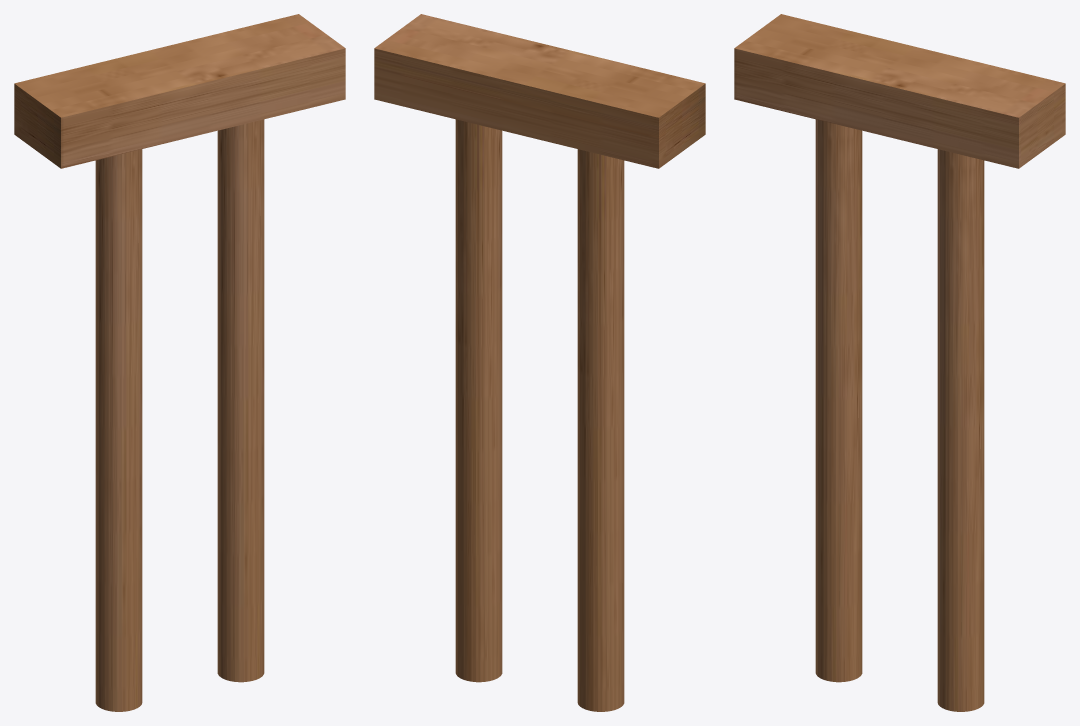
Rendered from Railing.fbx.
3 views of the same model, side by side, from view 1: azimuth 30°, elevation 25°; view 2: azimuth 150°, elevation 25°; view 3: azimuth 330°, elevation 25° (orthographic).
Parts seen in each view (by area): view 1: Cylinder, Cube; view 2: Cylinder, Cube; view 3: Cylinder, Cube.
Part boxes in pixels (x1,y1,x2,y2): Cylinder: (95, 119, 264, 711); Cube: (14, 14, 345, 168); Cylinder: (455, 119, 624, 711); Cube: (374, 14, 705, 168); Cylinder: (815, 119, 984, 711); Cube: (734, 14, 1065, 168).
Size of the model in its own units: 700 by 1460 by 200.
